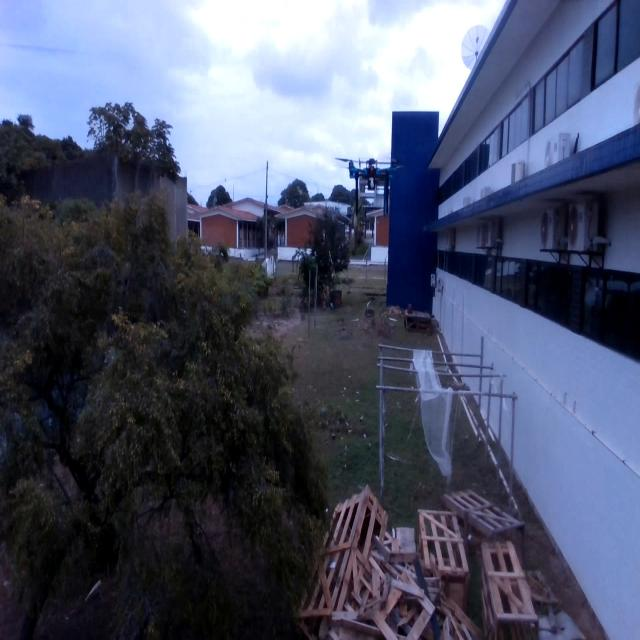-uav-: (335, 136, 395, 220)
